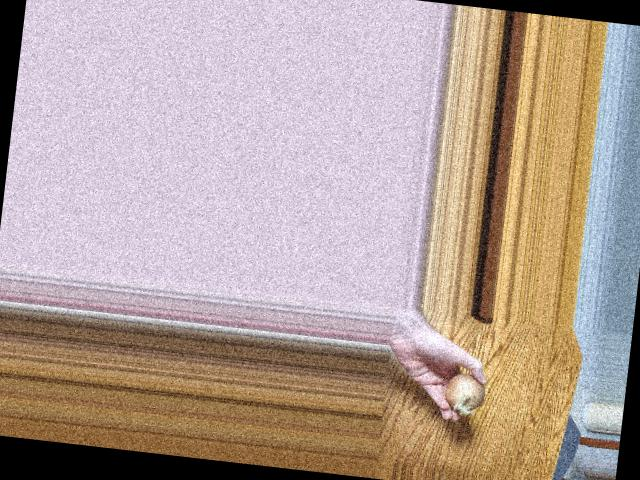onion: (440, 370, 486, 411)
